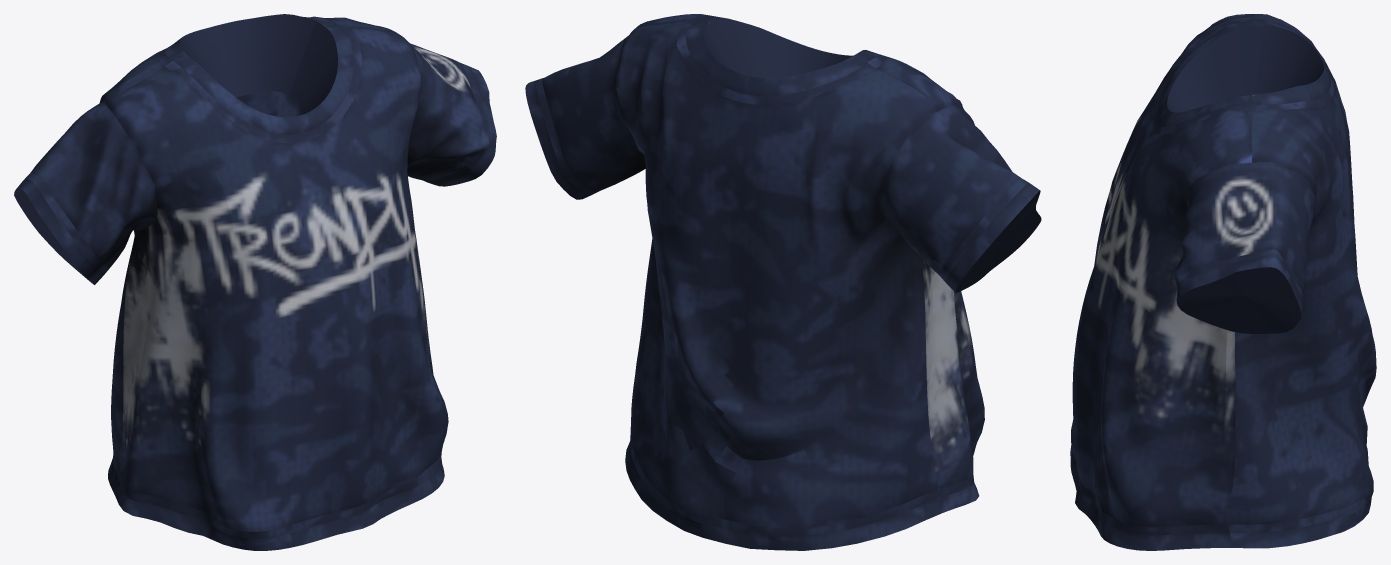
File: top8.glb
3 views of the same model, side by side, from view 1: azimuth 30°, elevation 25°; view 2: azimuth 150°, elevation 25°; view 3: azimuth 270°, elevation 25° (orthographic). The views are drawn at different scales.
Parts seen in each view (by area): view 1: s4studio_mesh_1; view 2: s4studio_mesh_1; view 3: s4studio_mesh_1.
Boxes of the visible parts, left/top/right/bottom form: s4studio_mesh_1: left=14, top=14, right=496, bottom=550; s4studio_mesh_1: left=525, top=14, right=1041, bottom=550; s4studio_mesh_1: left=1070, top=14, right=1376, bottom=550.
Bounding box in the file's own units: 0.3536 × 0.3116 × 0.1975.
1 material, 1 textured.
